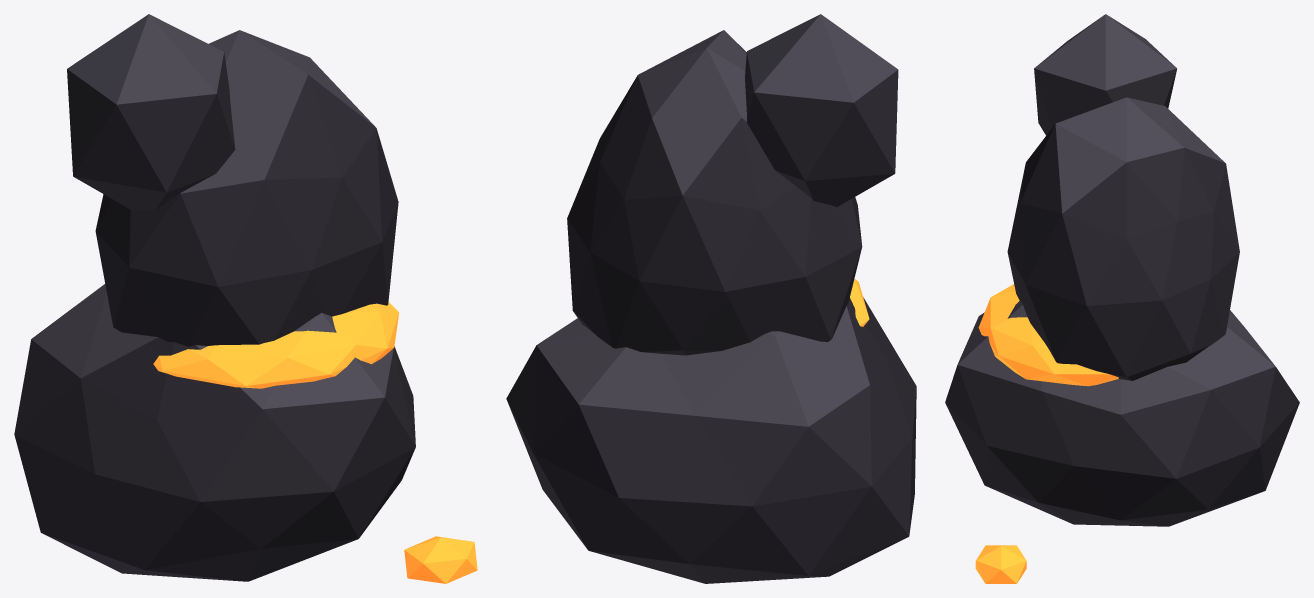
The model's file is lava_rock_c.glb.
The picture shows the model from 3 angles, left to right: view 1: azimuth 30°, elevation 25°; view 2: azimuth 150°, elevation 25°; view 3: azimuth 270°, elevation 25°; orthographic projection. The views are drawn at different scales.
Visible parts, largest first — view 1: lava_rock_c; view 2: lava_rock_c; view 3: lava_rock_c.
Part boxes in pixels (x1=…): lava_rock_c: x1=14, y1=14, x2=477, y2=583; lava_rock_c: x1=506, y1=14, x2=916, y2=583; lava_rock_c: x1=945, y1=14, x2=1299, y2=583.
Bounding box in the file's own units: 1.2 × 1.73 × 1.19.
